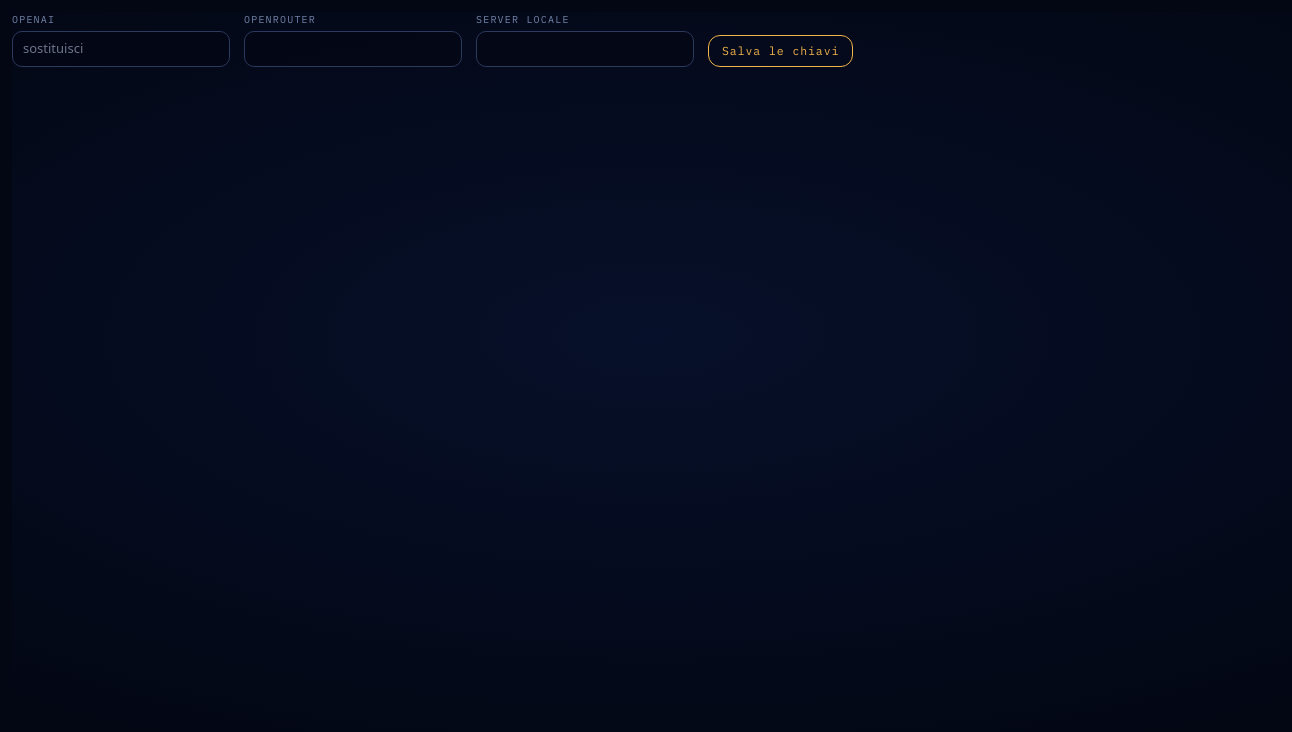
DesktopKeys › sends only the keys typed, then forgets them
Expected: the password field labelled "Server locale" is shown, [476,31,694,66]
Step 1. Type "sk-or-test" into the password field labelled "OpenRouter" → [353, 49], box [244,31,462,66]
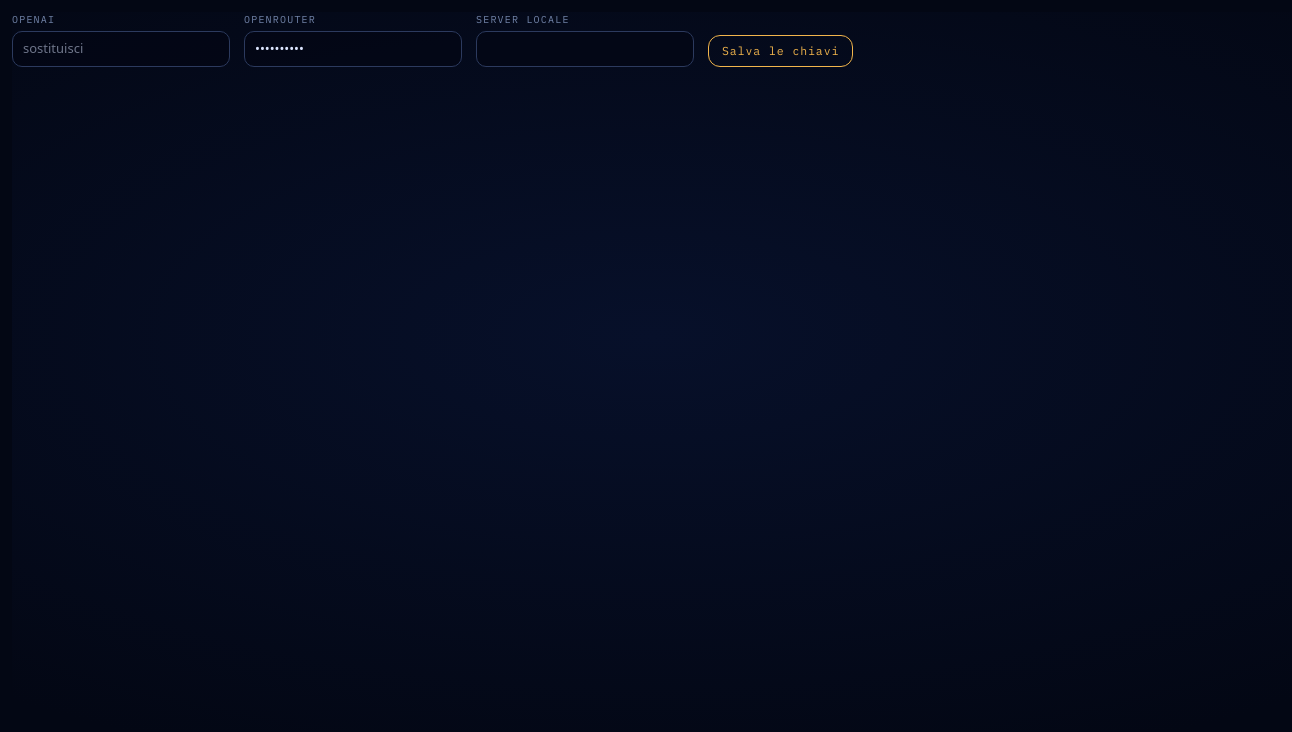
Step 2. Click the button "Salva le chiavi" → [781, 51], box [708,35,853,67]
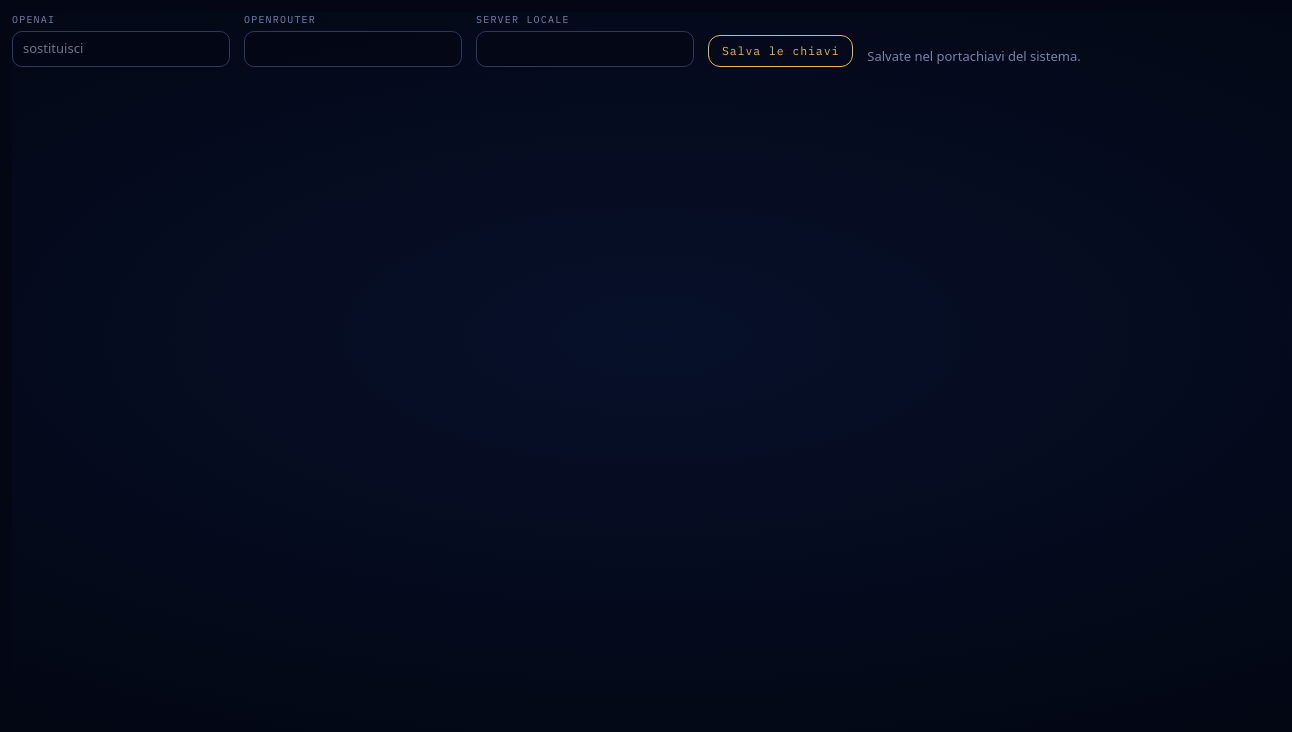
Now the password field labelled "OpenRouter" is empty, box [244,31,462,66]
Now the text "Salvate nel portachiavi del sistema." is shown, box [867,47,1081,66]
